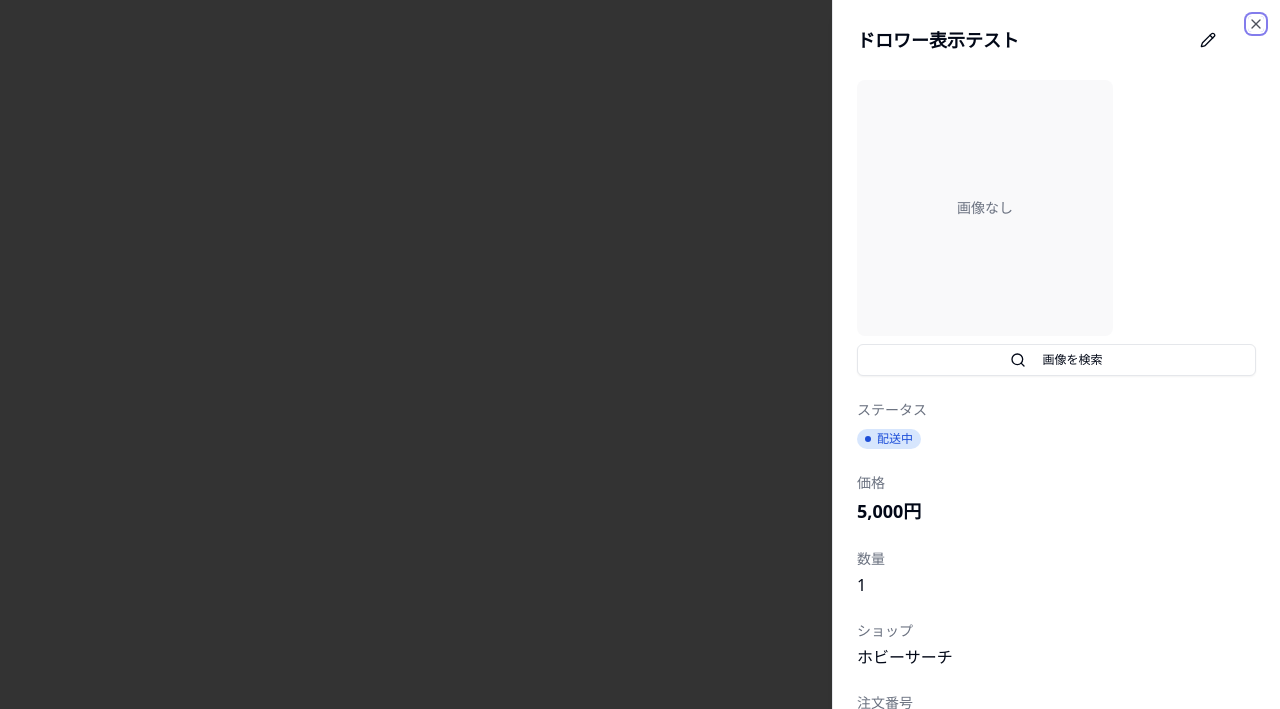
Test: OrderItemDrawer › handleSave - Validation › shows error when originalItemName is missing
The width and height of the screenshot is (1280, 709).
Click the button titled "編集": (1208, 40) [1192,24,1224,56]
(page scrolled)
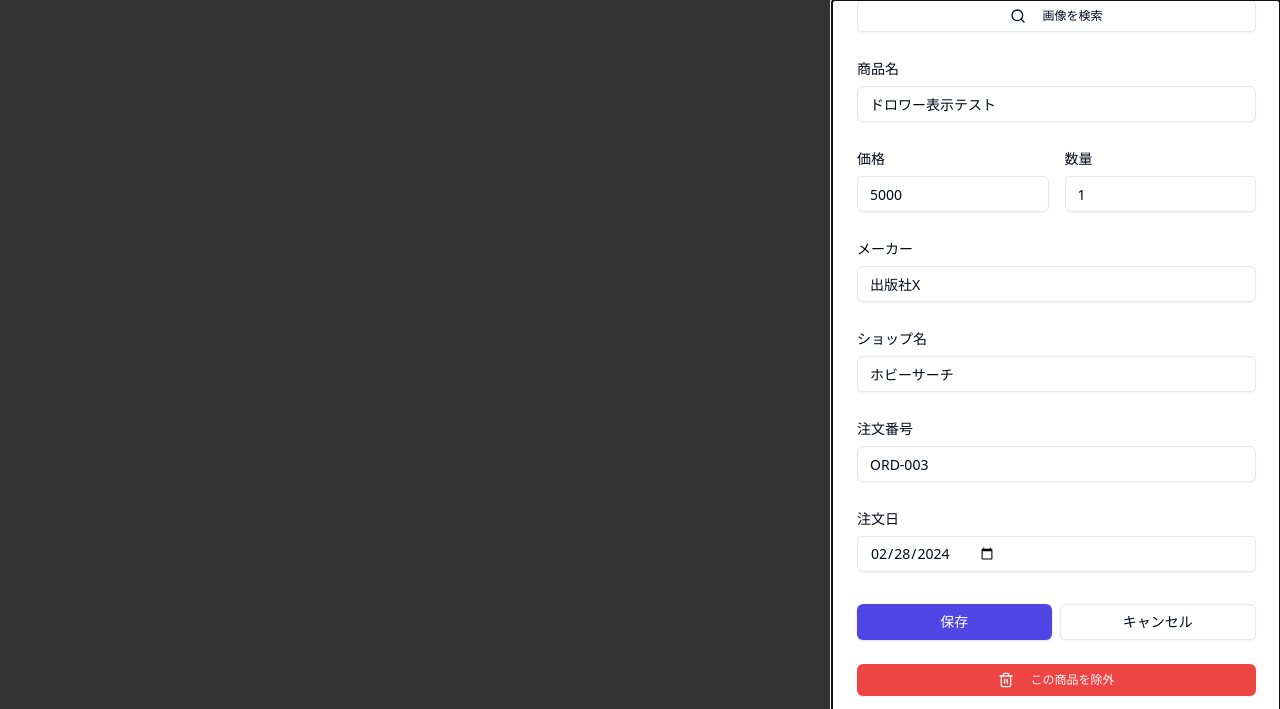
Click the button "保存": (954, 622) [857,604,1052,640]
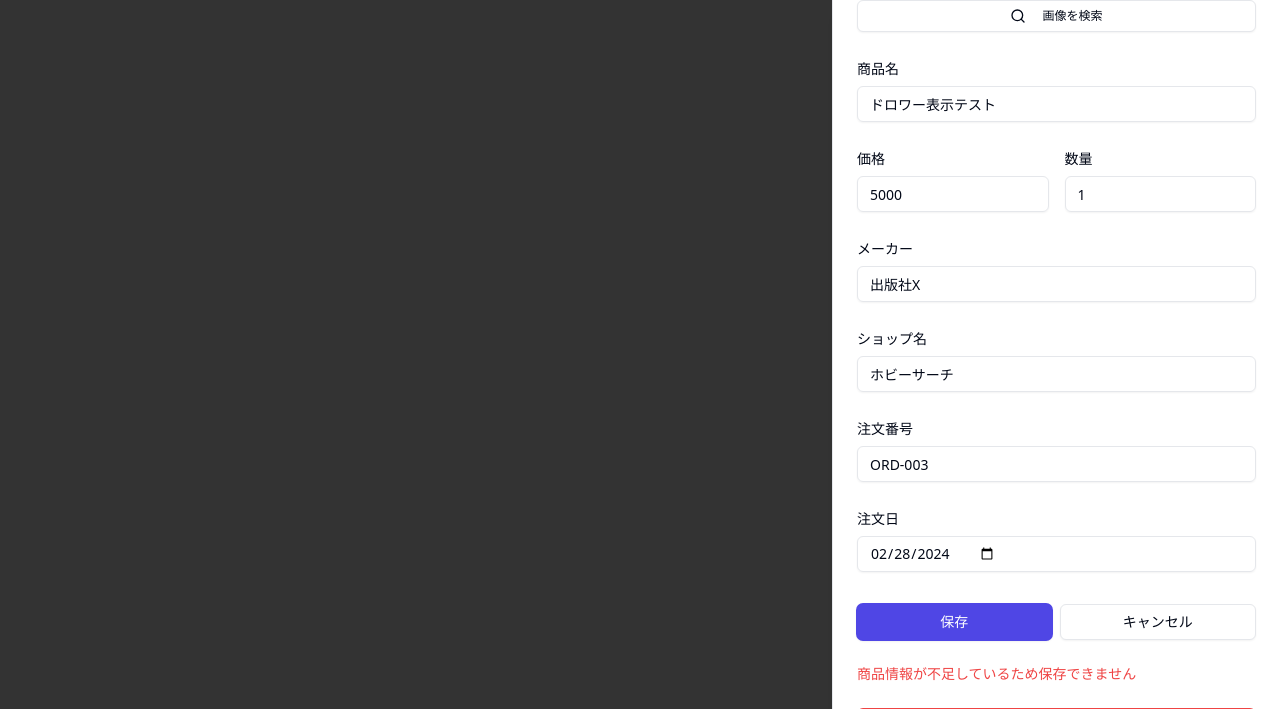
Expected: the text "商品情報が不足しているため保存できません" is shown, [857,664,1136,683]
